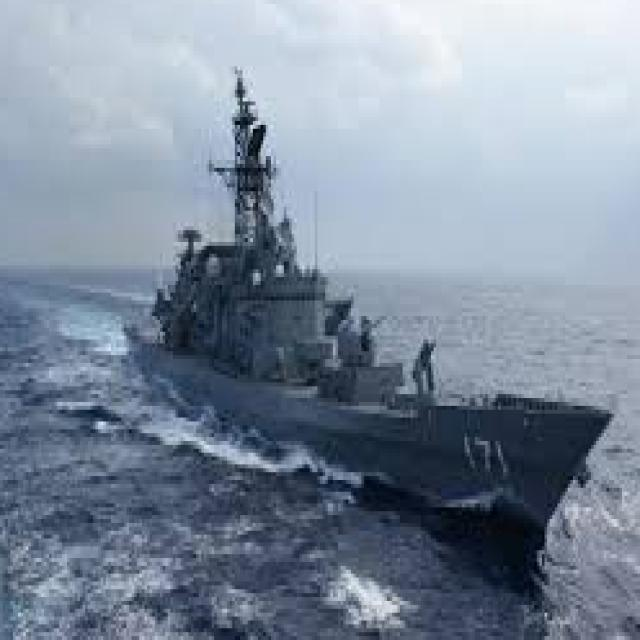navalvessels: (126, 81, 622, 558)
